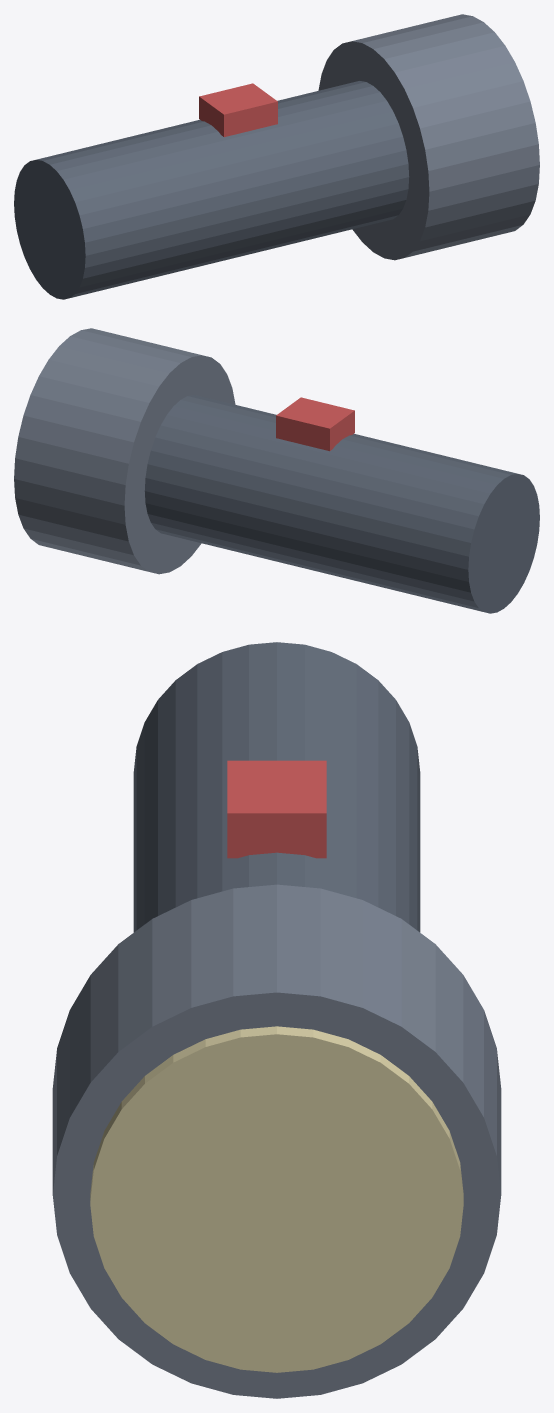
Rendered from flashlight.glb.
The picture shows the model from 3 angles, top to bottom: view 1: azimuth 30°, elevation 25°; view 2: azimuth 150°, elevation 25°; view 3: azimuth 270°, elevation 25°; orthographic projection. The views are drawn at different scales.
Parts seen in each view (by area): view 1: FlashlightBody, FlashlightHead, FlashlightButton; view 2: FlashlightBody, FlashlightHead, FlashlightButton; view 3: FlashlightLens, FlashlightHead, FlashlightBody, FlashlightButton.
Part boxes in pixels (x1=…): FlashlightBody: x1=14, y1=81, x2=409, y2=299; FlashlightHead: x1=318, y1=14, x2=539, y2=260; FlashlightButton: x1=199, y1=83, x2=277, y2=137; FlashlightBody: x1=144, y1=395, x2=539, y2=613; FlashlightHead: x1=14, y1=328, x2=235, y2=574; FlashlightButton: x1=276, y1=397, x2=354, y2=451; FlashlightLens: x1=90, y1=1026, x2=463, y2=1372; FlashlightHead: x1=52, y1=884, x2=501, y2=1398; FlashlightBody: x1=133, y1=642, x2=420, y2=932; FlashlightButton: x1=227, y1=760, x2=326, y2=858.
Size of the model in its own units: 1.64 by 0.72 by 0.72.
